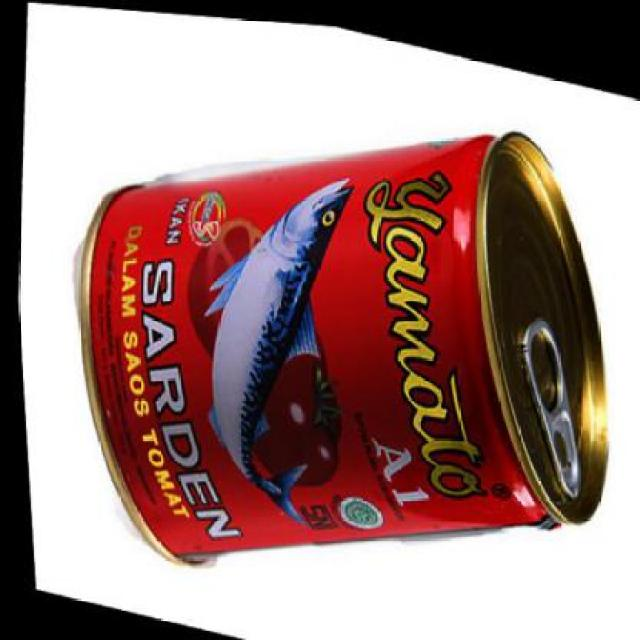Metal: (72, 116, 615, 568)
